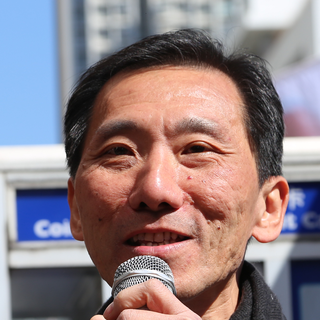eye: (173, 140, 224, 163), (97, 141, 141, 165)
